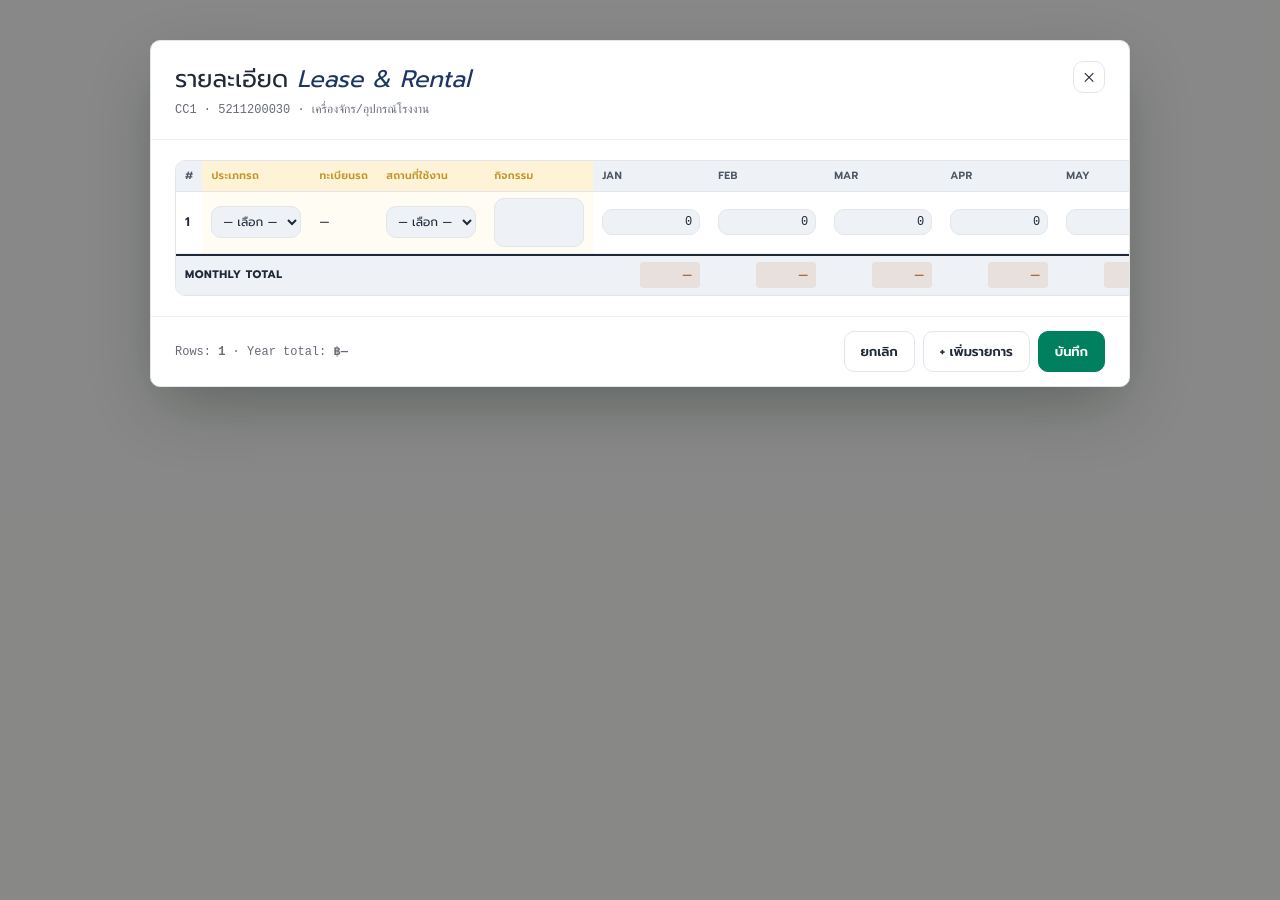
Test: DetailSubform › every ENTERABLE field is required, or the save is blocked (jakkaritw 2026-08-20, verbatim: "บังคับกรอก หรือ เลือกดรอปดาวทั้งหมด ไม่งั้น ไม่ไห้บันทึก") › the SAME row also blocks on กิจกรรม once ประเภทรถ is filled — a plain text field was never guarded before this fix
The image size is (1280, 900).
Step 1. Select "Forklift" in the dropdown named "ประเภทรถ" → (256, 222), box [211, 206, 301, 238]
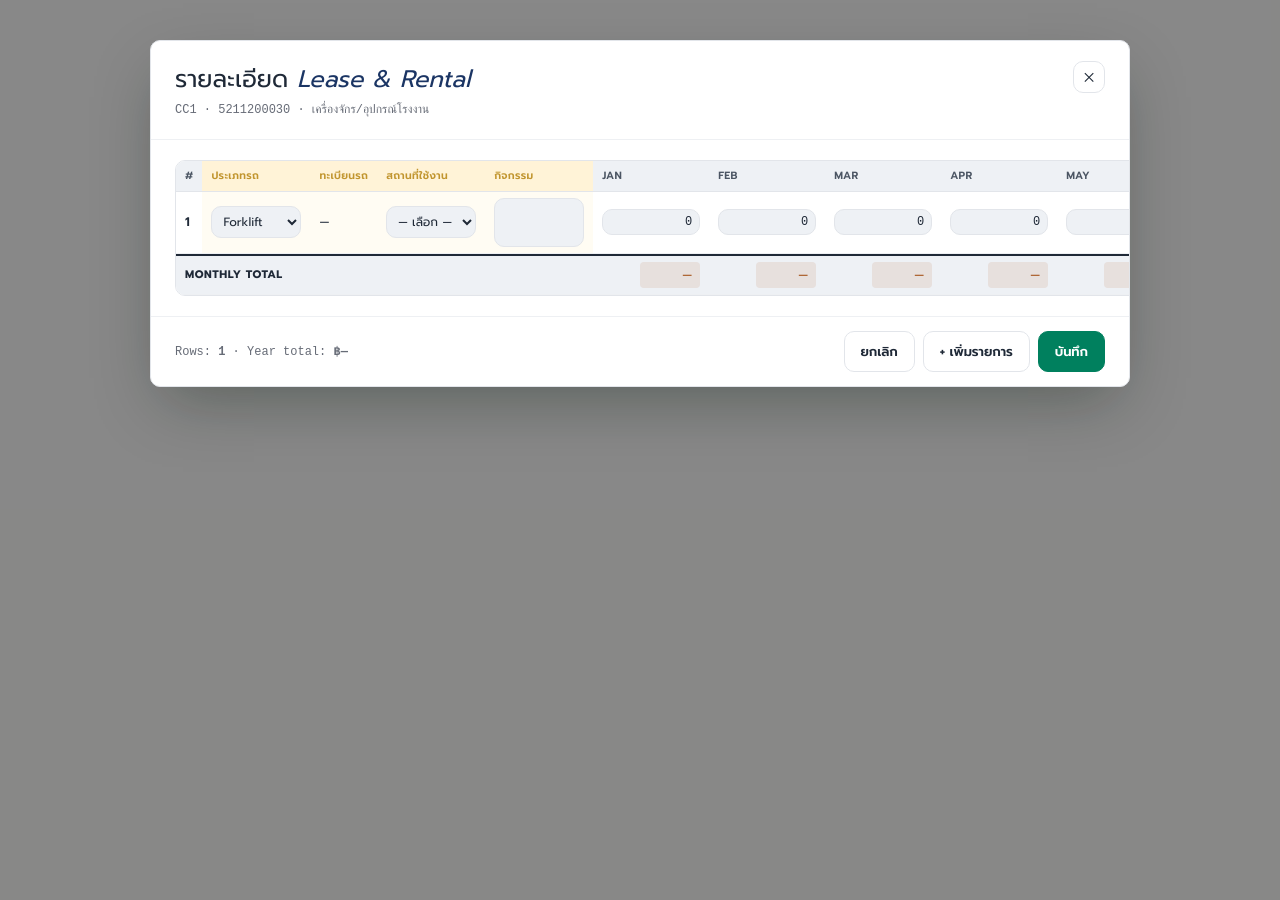
Step 2. Select "BK" in the dropdown named "สถานที่ใช้งาน" → (431, 222), box [386, 206, 476, 238]
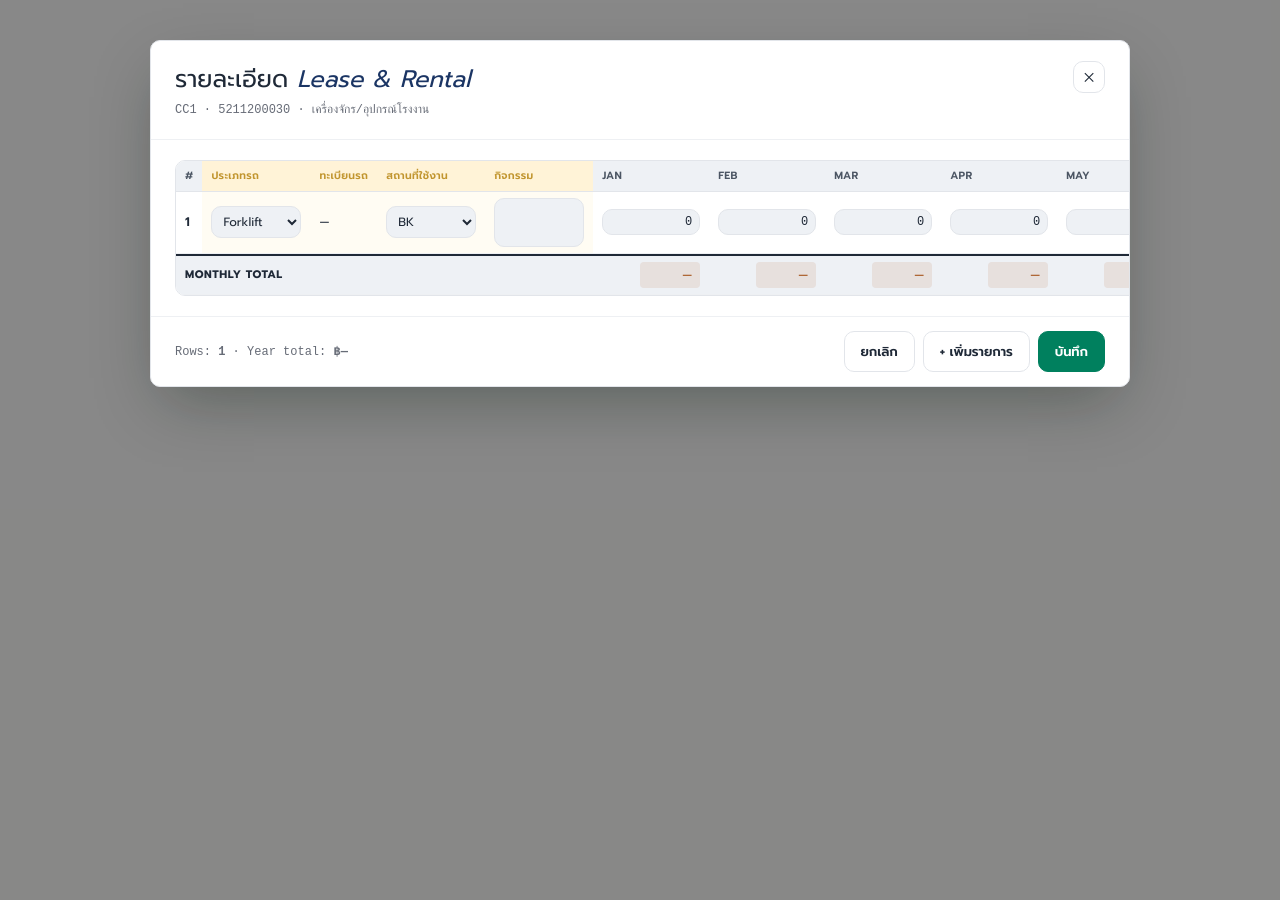
Step 3. Click the button with test id "save-all" → (1071, 352), box [1038, 331, 1105, 372]
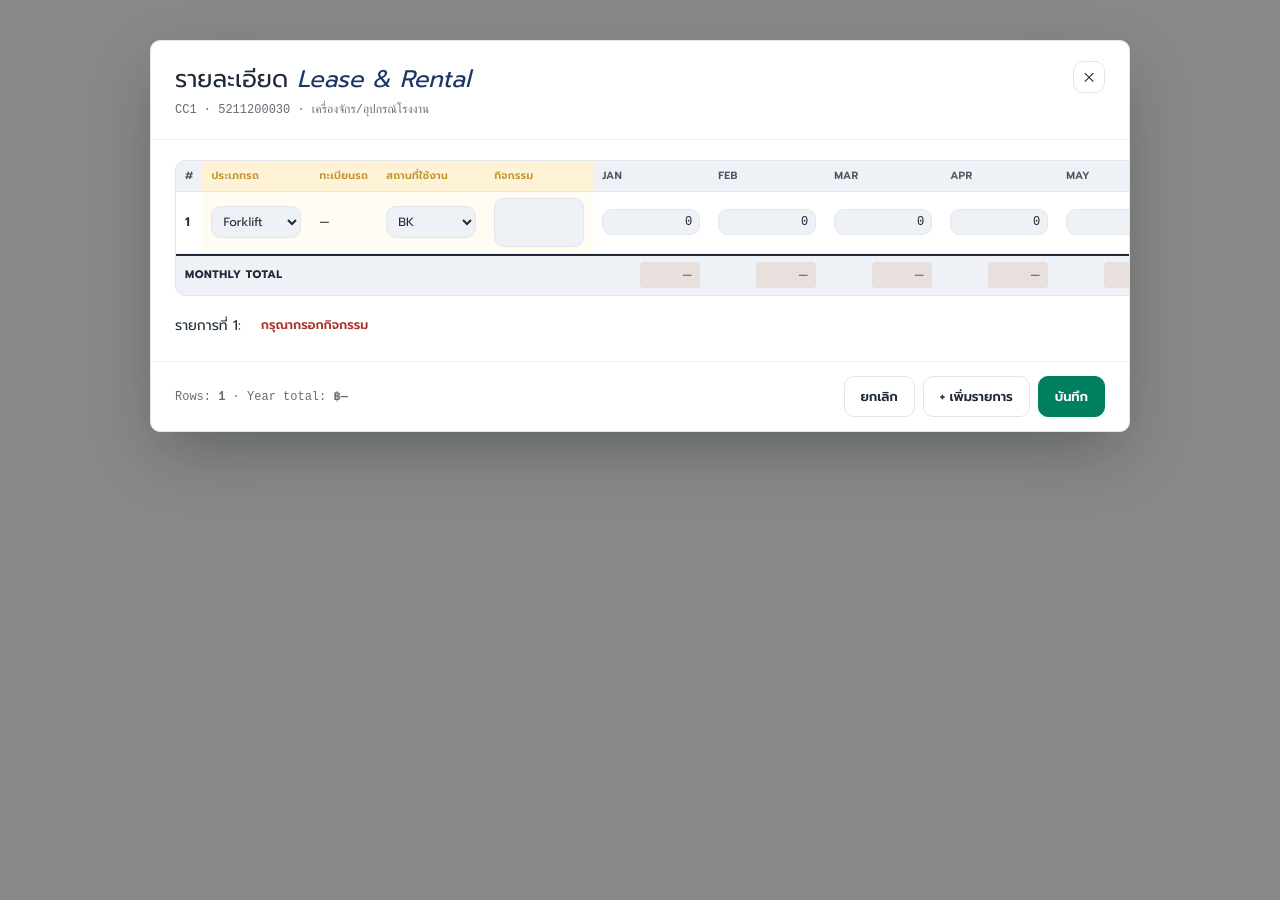
Expected: the text "กรุณากรอกกิจกรรม" is shown, [261, 315, 368, 334]
